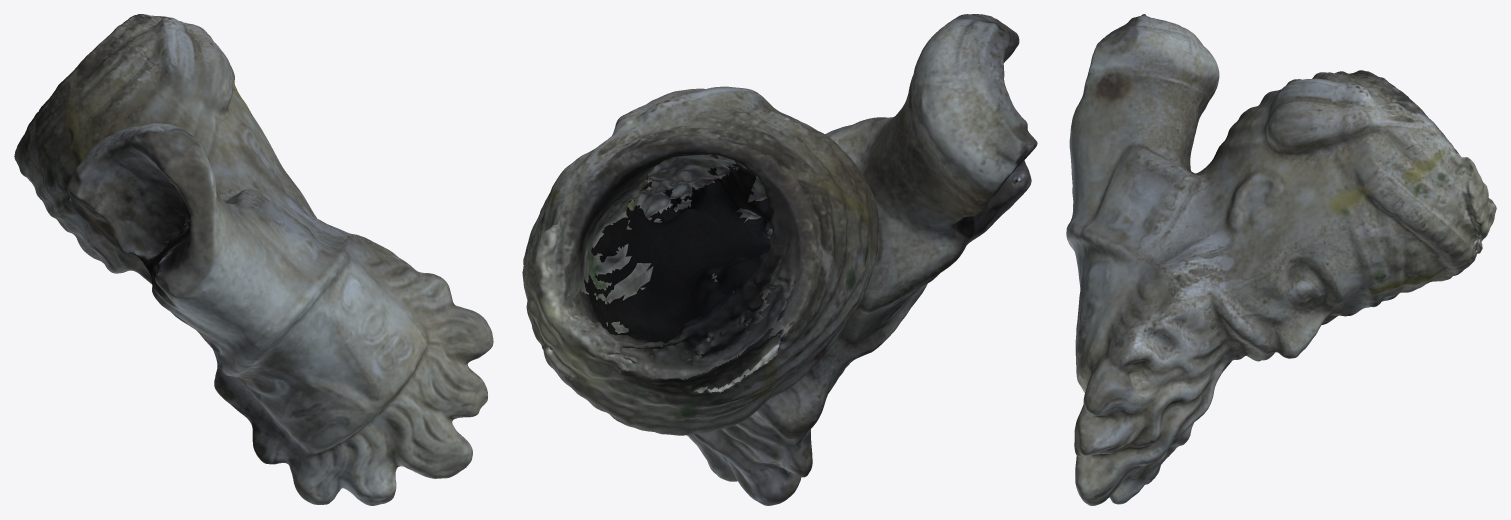
File: FOYER_PIPE_V3.obj
3 renders of one model, left to right at view 1: azimuth 30°, elevation 25°; view 2: azimuth 150°, elevation 25°; view 3: azimuth 270°, elevation 25°, orthographic. The views are drawn at different scales.
Size of the model in its own units: 0.0496 by 0.0532 by 0.0535.
1 material, 1 textured.
